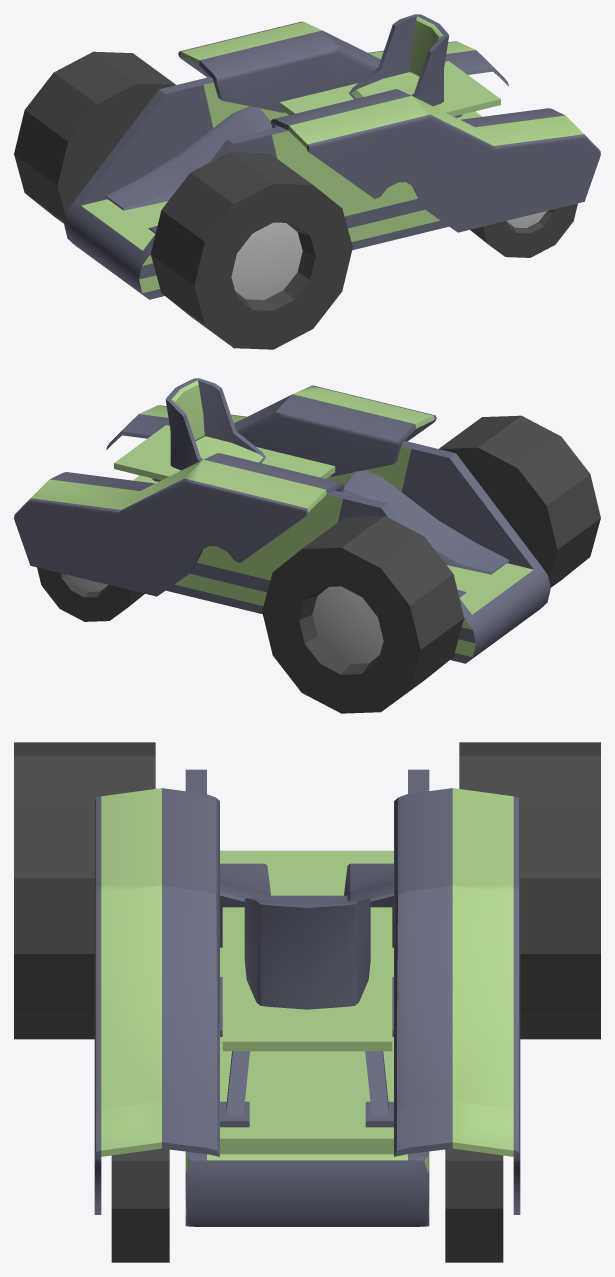
The model's file is LowTank.fbx.
3 views of the same model, one above another, from view 1: azimuth 30°, elevation 25°; view 2: azimuth 150°, elevation 25°; view 3: azimuth 270°, elevation 25° (orthographic). The views are drawn at different scales.
Parts seen in each view (by area): view 1: TireFrontLeft, SideSkirtLeft, Frame, TireFrontRight, SideSkirtLeft1, originalSeat4, FrontBumper, TireRearLeft; view 2: TireFrontRight, SideSkirtLeft1, Frame, TireFrontLeft, SideSkirtLeft, originalSeat4, FrontBumper, TireRearRight; view 3: Frame, SideSkirtLeft1, SideSkirtLeft, TireFrontRight, TireFrontLeft, originalSeat4, TireRearLeft, TireRearRight, FrontBumper, FrameSpacer.
Boxes of the visible parts, x1=… form: TireFrontLeft: x1=151, y1=152, x2=352, y2=349; SideSkirtLeft: x1=270, y1=89, x2=600, y2=232; Frame: x1=64, y1=61, x2=500, y2=299; TireFrontRight: x1=14, y1=51, x2=175, y2=223; SideSkirtLeft1: x1=178, y1=21, x2=508, y2=112; originalSeat4: x1=349, y1=14, x2=449, y2=106; FrontBumper: x1=105, y1=106, x2=272, y2=233; TireRearLeft: x1=470, y1=203, x2=577, y2=257; TireFrontRight: x1=262, y1=515, x2=463, y2=713; SideSkirtLeft1: x1=14, y1=453, x2=344, y2=596; Frame: x1=114, y1=425, x2=550, y2=663; TireFrontLeft: x1=439, y1=415, x2=600, y2=587; SideSkirtLeft: x1=106, y1=385, x2=436, y2=476; originalSeat4: x1=165, y1=378, x2=265, y2=470; FrontBumper: x1=343, y1=470, x2=509, y2=597; TireRearRight: x1=37, y1=567, x2=144, y2=621; Frame: x1=185, y1=769, x2=429, y2=1226; SideSkirtLeft1: x1=394, y1=788, x2=520, y2=1214; SideSkirtLeft: x1=94, y1=788, x2=219, y2=1214; TireFrontRight: x1=459, y1=742, x2=600, y2=1039; TireFrontLeft: x1=14, y1=742, x2=155, y2=1039; originalSeat4: x1=244, y1=898, x2=370, y2=1009; TireRearLeft: x1=111, y1=1148, x2=169, y2=1262; TireRearRight: x1=445, y1=1148, x2=503, y2=1262; FrontBumper: x1=220, y1=863, x2=393, y2=947; FrameSpacer: x1=220, y1=977, x2=393, y2=1127.
Bounding box in the file's own units: 6.57 × 2.86 × 4.72.
